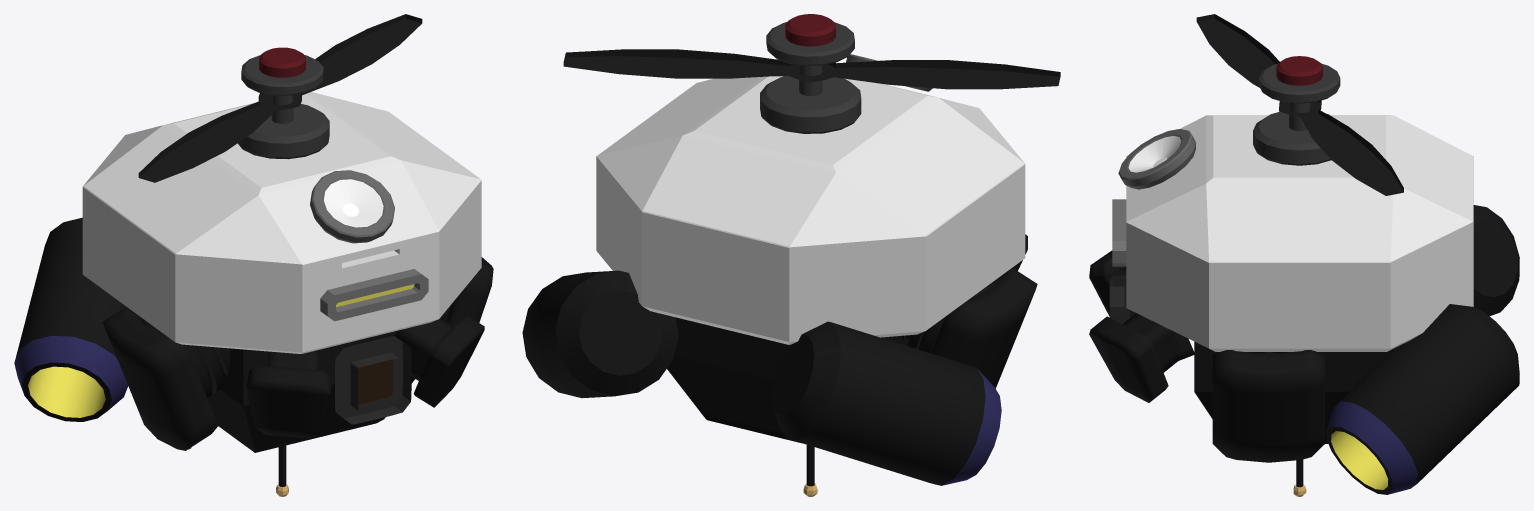
The model's file is 20240705_Boss_SH.fbx.
3 renders of one model, left to right at view 1: azimuth 30°, elevation 25°; view 2: azimuth 150°, elevation 25°; view 3: azimuth 270°, elevation 25°, orthographic. The views are drawn at different scales.
Visible parts, largest first — view 1: Cube.001, Cylinder.010, Cube.007, Cube.009, Plane, Cylinder.002, Cube.004, Cube.003, Cylinder.006, Cube.016, Cylinder.005; view 2: Cube.001, Cylinder.010, Plane, Cube.003, Cylinder.002, Cube.009, Cylinder.005; view 3: Cube.001, Cylinder.010, Cube.009, Plane, Cube.007, Cylinder.002, Cube.003, Cylinder.006, Cube.016, Cube.004.
Boxes of the visible parts, bbox=[...] form: Cube.001: bbox=[82, 92, 481, 353]; Cylinder.010: bbox=[14, 217, 143, 421]; Cube.007: bbox=[246, 314, 484, 438]; Cube.009: bbox=[103, 257, 493, 450]; Plane: bbox=[138, 14, 422, 182]; Cylinder.002: bbox=[237, 47, 329, 159]; Cube.004: bbox=[335, 336, 411, 424]; Cube.003: bbox=[143, 319, 414, 452]; Cylinder.006: bbox=[310, 170, 394, 243]; Cube.016: bbox=[320, 269, 428, 321]; Cylinder.005: bbox=[141, 298, 456, 397]; Cube.001: bbox=[596, 76, 1025, 344]; Cylinder.010: bbox=[522, 270, 1001, 485]; Plane: bbox=[563, 49, 1060, 89]; Cube.003: bbox=[667, 317, 909, 443]; Cylinder.002: bbox=[760, 14, 861, 133]; Cube.009: bbox=[930, 267, 1037, 388]; Cylinder.005: bbox=[902, 282, 995, 352]; Cube.001: bbox=[1126, 115, 1473, 351]; Cylinder.010: bbox=[1326, 205, 1519, 494]; Cube.009: bbox=[1212, 350, 1324, 462]; Plane: bbox=[1196, 14, 1403, 195]; Cube.007: bbox=[1089, 250, 1194, 402]; Cylinder.002: bbox=[1253, 56, 1340, 165]; Cube.003: bbox=[1194, 341, 1392, 443]; Cylinder.006: bbox=[1118, 129, 1196, 189]; Cube.016: bbox=[1112, 199, 1126, 266]; Cube.004: bbox=[1109, 270, 1129, 323].
Size of the model in its own units: 515 by 500 by 453.
